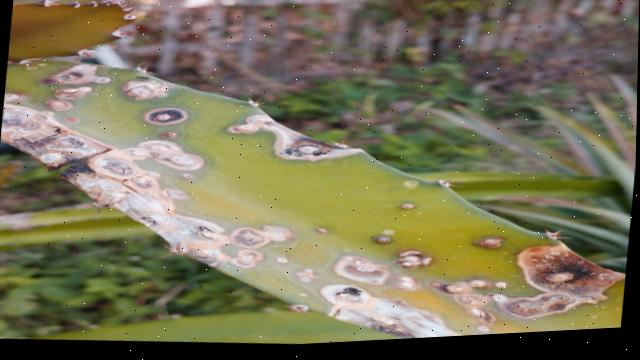stemcanker: (371, 229, 398, 248), (393, 196, 420, 214), (150, 128, 180, 142)
